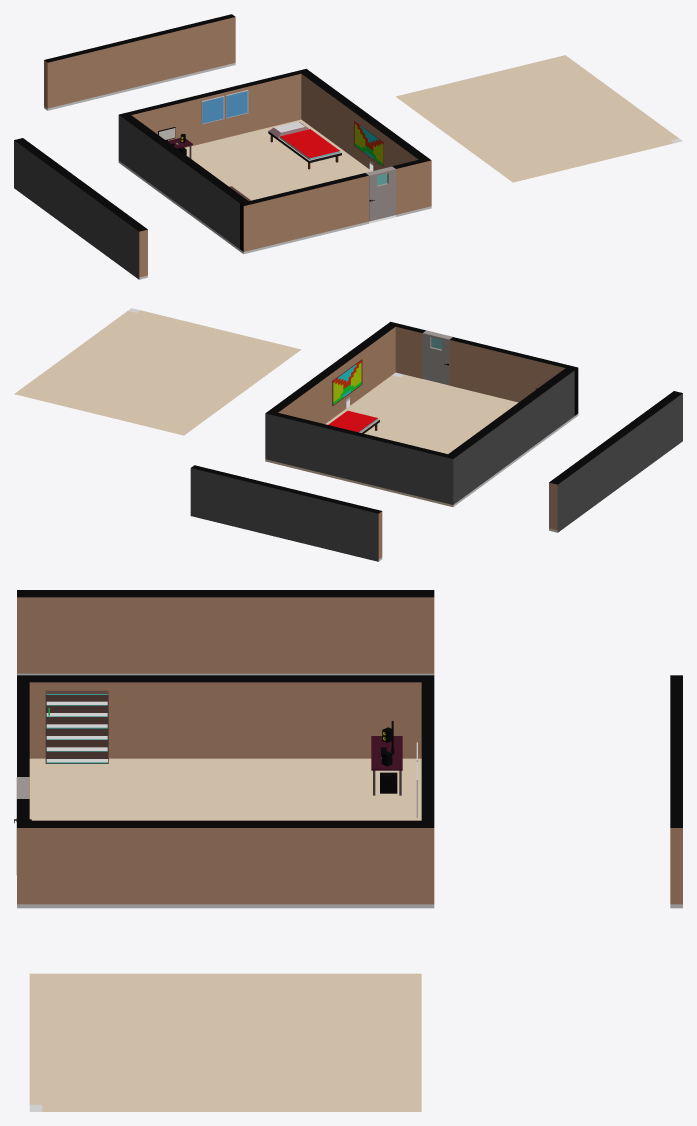
File: HouseUltimate.fbx
3 renders of one model, top to bottom at view 1: azimuth 30°, elevation 25°; view 2: azimuth 150°, elevation 25°; view 3: azimuth 270°, elevation 25°, orthographic. The views are drawn at different scales.
Visible parts, largest first — view 1: House, Ground, Wall2, Wall1, Bed, Bedroom Door, Painting, Window2, Window1; view 2: House, Ground, Wall2, Wall1, Bedroom Door, Painting, Bed; view 3: House, Ground, Wall1, Bookshelf, Wall2, Table.
Part boxes in pixels (<box>): House: <box>118,68,431,253</box>; Ground: <box>395,55,682,182</box>; Wall2: <box>44,14,235,110</box>; Wall1: <box>14,138,147,279</box>; Bed: <box>268,121,341,169</box>; Bedroom Door: <box>366,166,395,221</box>; Painting: <box>354,120,383,167</box>; Window2: <box>225,90,248,118</box>; Window1: <box>201,96,224,124</box>; House: <box>265,321,578,506</box>; Ground: <box>14,308,301,435</box>; Wall2: <box>190,465,382,561</box>; Wall1: <box>549,391,682,532</box>; Bedroom Door: <box>422,330,452,385</box>; Painting: <box>332,359,362,405</box>; Bed: <box>328,410,379,433</box>; House: <box>17,675,434,908</box>; Ground: <box>29,973,421,1111</box>; Wall1: <box>17,590,434,675</box>; Bookshelf: <box>45,690,108,763</box>; Wall2: <box>670,675,682,908</box>; Table: <box>371,736,402,795</box>.
Size of the model in its own units: 25016 by 2122 by 15880.
